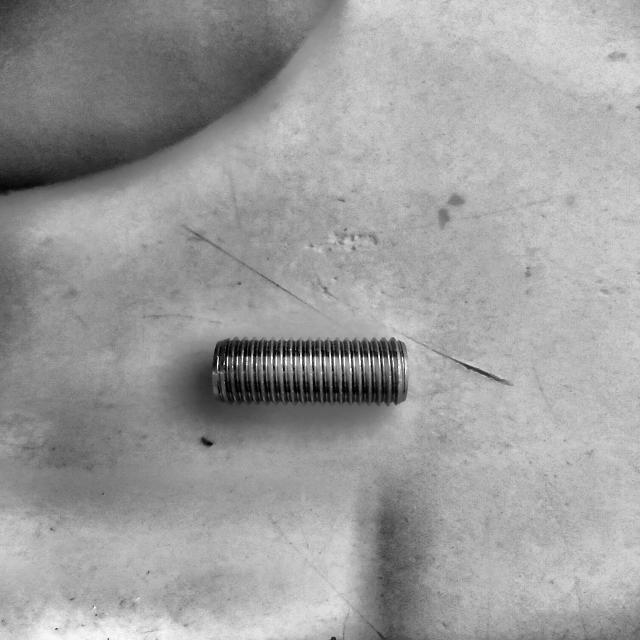Normal: (210, 336, 410, 408)
